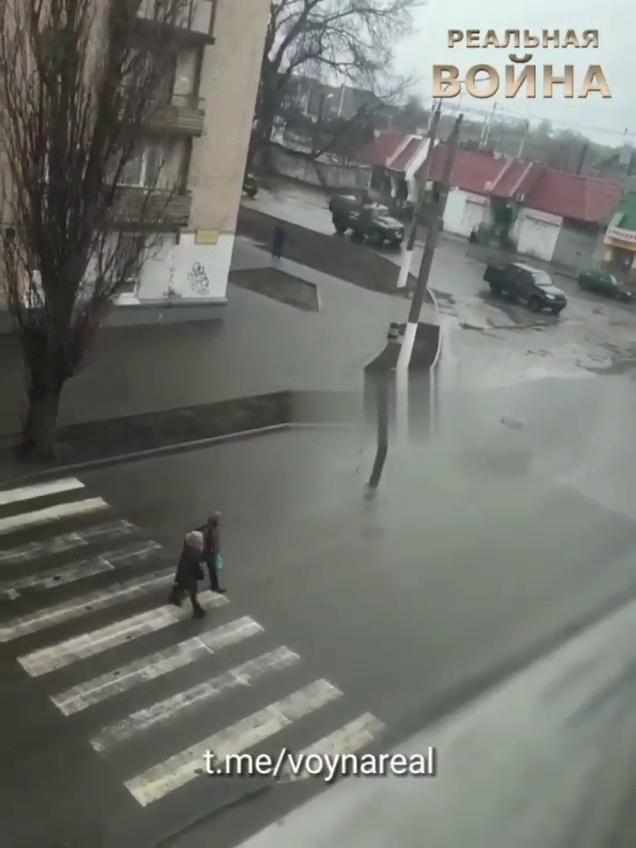armored_car: (330, 191, 405, 248)
car: (484, 258, 568, 316), (577, 268, 636, 302)
person: (172, 531, 206, 618), (194, 510, 226, 594), (271, 220, 288, 259)
